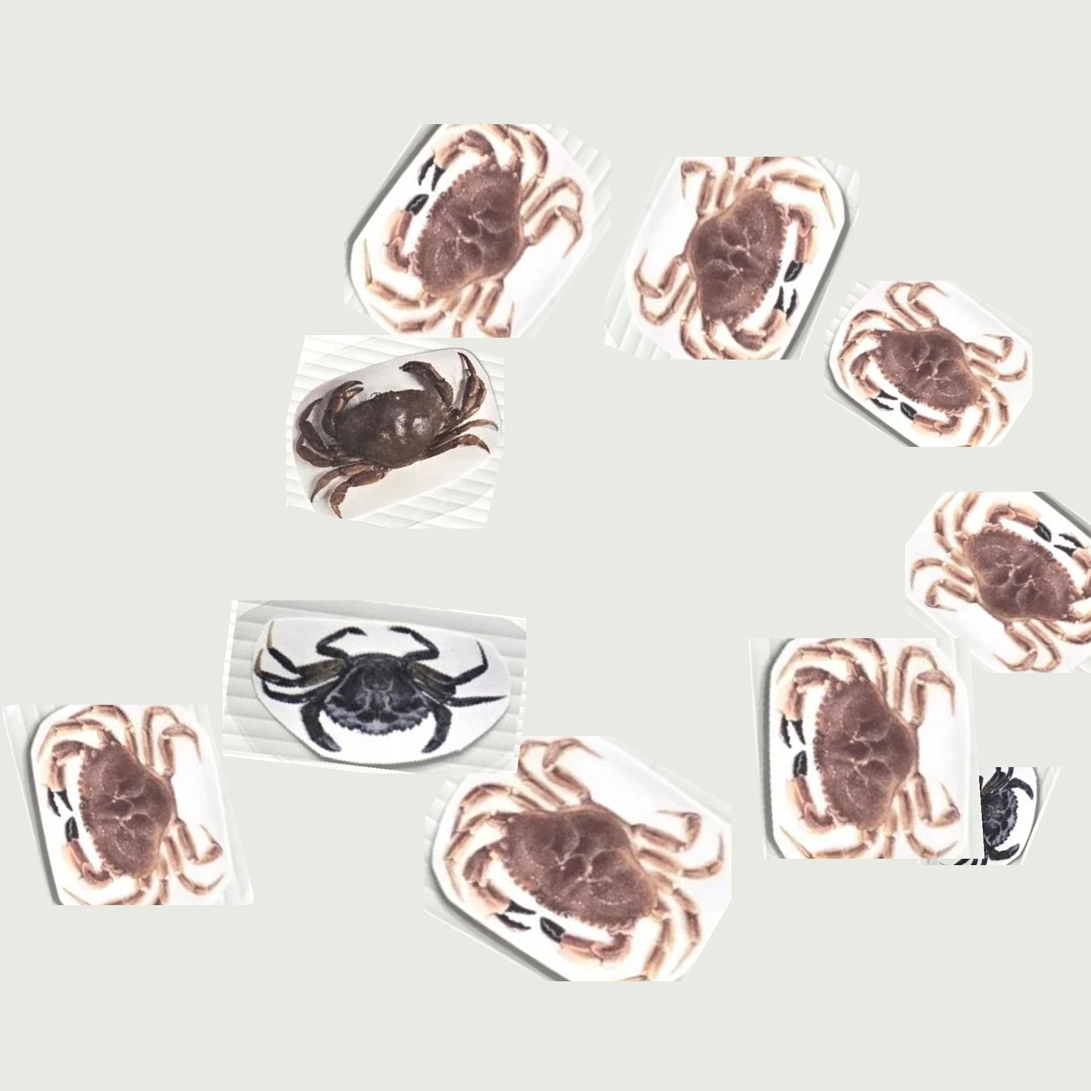evil: (230, 606, 533, 768), (954, 771, 1043, 858)
normal: (435, 740, 710, 982), (8, 698, 230, 942), (634, 160, 825, 373), (379, 123, 569, 334), (763, 642, 951, 853), (300, 348, 499, 519), (906, 480, 1091, 662), (827, 278, 1012, 432)
